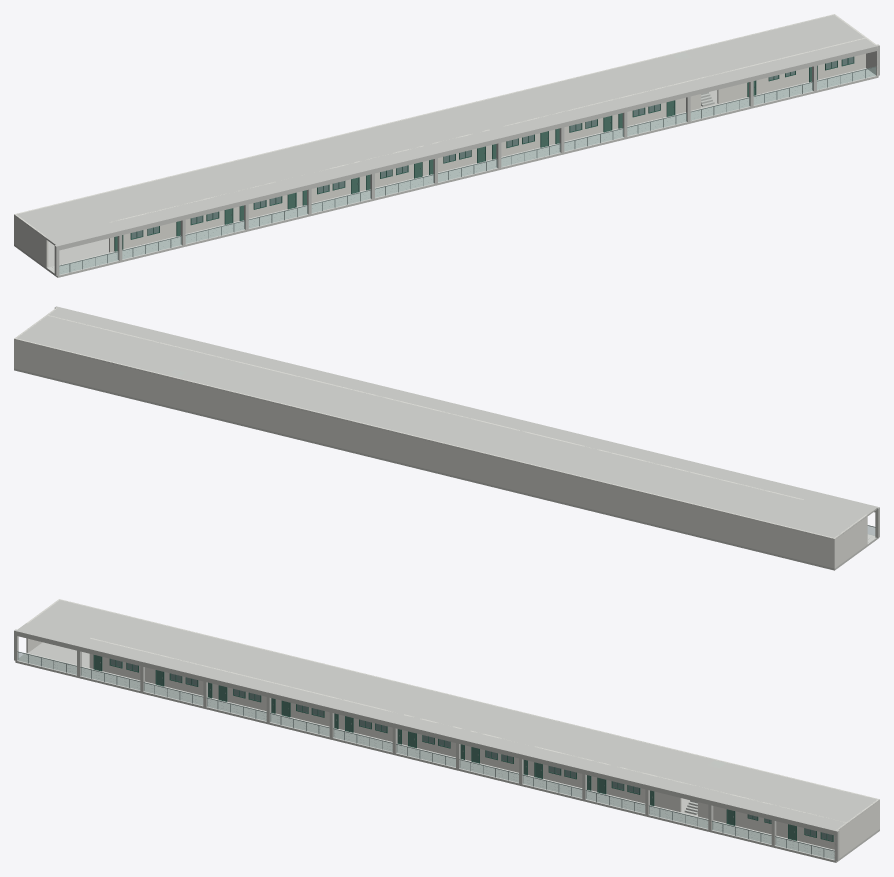
The model's file is teaching_floor.glb.
3 views of the same model, one above another, from view 1: azimuth 30°, elevation 25°; view 2: azimuth 150°, elevation 25°; view 3: azimuth 330°, elevation 25° (orthographic).
Parts seen in each view (by area): view 1: Upper slab.001, Corridor tile.001, Corridor beam.001, Floor slab.001, Rear wall.001, Left end wall.001; view 2: Upper slab.001, Rear wall.001, Floor slab.001, Corridor beam.001, Left end wall.001; view 3: Upper slab.001, Corridor tile.001, Corridor beam.001, Floor slab.001, Right end wall.001, Rear wall.001.
Boxes of the visible parts, box(x1,y1,x2,y2) form: Upper slab.001: box(15, 14, 876, 247); Corridor tile.001: box(47, 68, 876, 275); Corridor beam.001: box(56, 45, 877, 250); Floor slab.001: box(14, 76, 878, 277); Rear wall.001: box(14, 14, 834, 243); Left end wall.001: box(14, 214, 48, 267); Upper slab.001: box(15, 307, 876, 539); Rear wall.001: box(14, 338, 835, 567); Floor slab.001: box(14, 368, 878, 570); Corridor beam.001: box(56, 307, 877, 512); Left end wall.001: box(833, 514, 867, 568); Upper slab.001: box(16, 599, 878, 830); Corridor tile.001: box(17, 652, 834, 860); Corridor beam.001: box(15, 629, 836, 835); Floor slab.001: box(15, 642, 879, 862); Right end wall.001: box(835, 799, 879, 860); Rear wall.001: box(59, 599, 879, 829).
Bounding box in the file's own units: 104 × 3.84 × 9.6.
